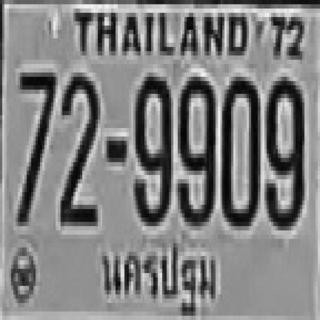N00: (220, 73, 258, 222)
N02: (58, 68, 98, 222)
N07: (17, 68, 54, 222)
N09: (264, 73, 302, 226), (132, 73, 170, 222), (176, 73, 213, 222)
P28: (98, 238, 222, 320)
